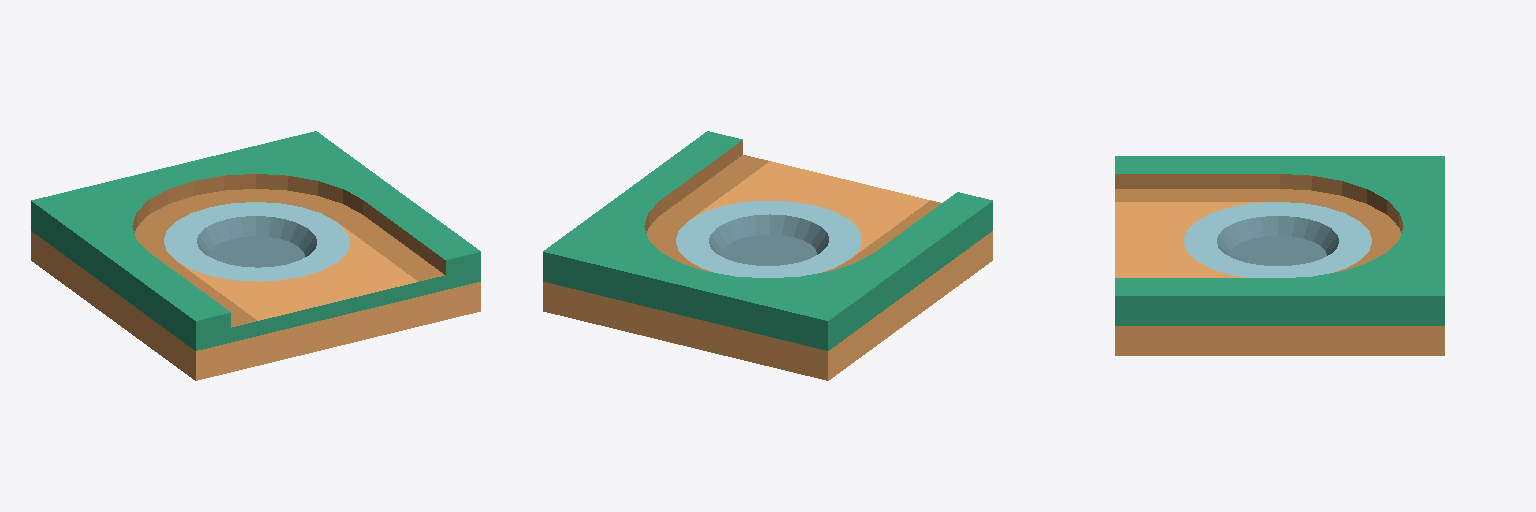
3 views of the same model, side by side, from view 1: azimuth 30°, elevation 25°; view 2: azimuth 150°, elevation 25°; view 3: azimuth 270°, elevation 25° (orthographic).
Visible parts, largest first — view 1: tile_endRoundSpawn; view 2: tile_endRoundSpawn; view 3: tile_endRoundSpawn.
Boxes of the visible parts, x1=… form: tile_endRoundSpawn: x1=31, y1=131, x2=480, y2=380; tile_endRoundSpawn: x1=543, y1=131, x2=992, y2=380; tile_endRoundSpawn: x1=1115, y1=156, x2=1444, y2=355.
Bounding box in the file's own units: 1 × 0.2 × 1.